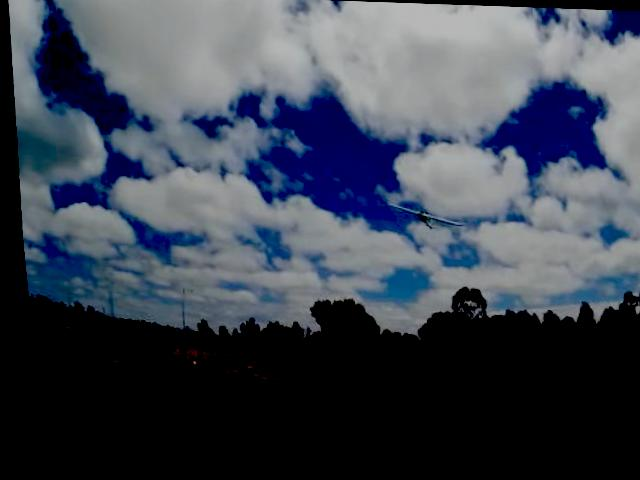uav: (375, 193, 471, 245)
